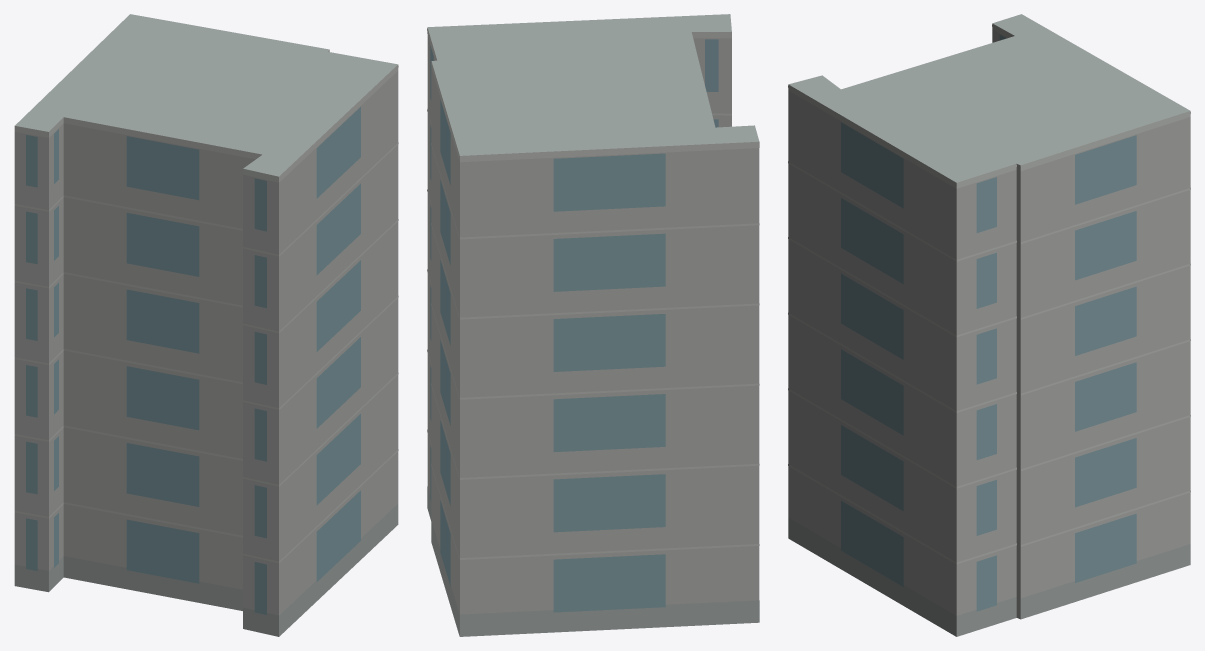
The model's file is survey-upis-32946790.glb.
The picture shows the model from 3 angles, left to right: view 1: azimuth 30°, elevation 25°; view 2: azimuth 150°, elevation 25°; view 3: azimuth 270°, elevation 25°; orthographic projection. The views are drawn at different scales.
Visible parts, largest first — view 1: survey-upis-32946790.tmp; view 2: survey-upis-32946790.tmp; view 3: survey-upis-32946790.tmp.
Boxes of the visible parts, x1,y1,x2,y2 form: survey-upis-32946790.tmp: [14, 14, 398, 636]; survey-upis-32946790.tmp: [427, 14, 759, 636]; survey-upis-32946790.tmp: [788, 14, 1190, 636].
Size of the model in its own units: 14.65 by 18.35 by 14.76.
